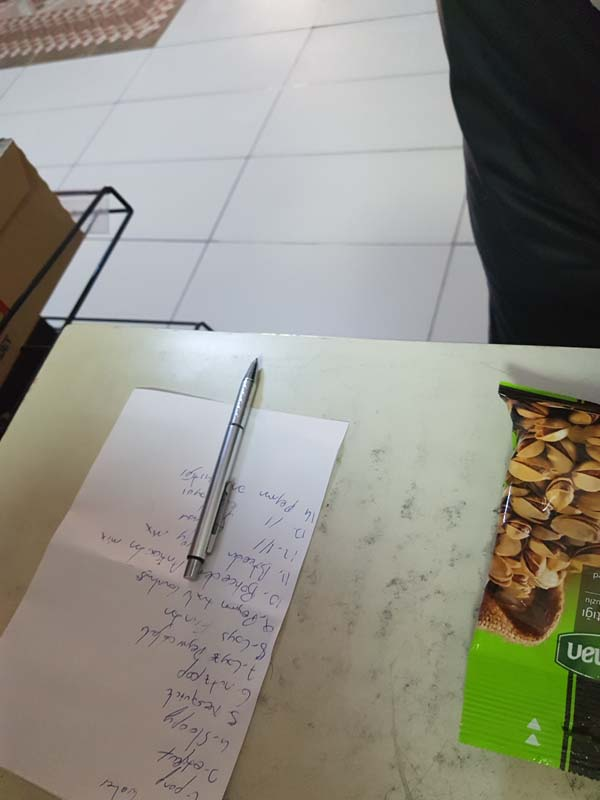antepfistigi: (451, 367, 600, 776)
